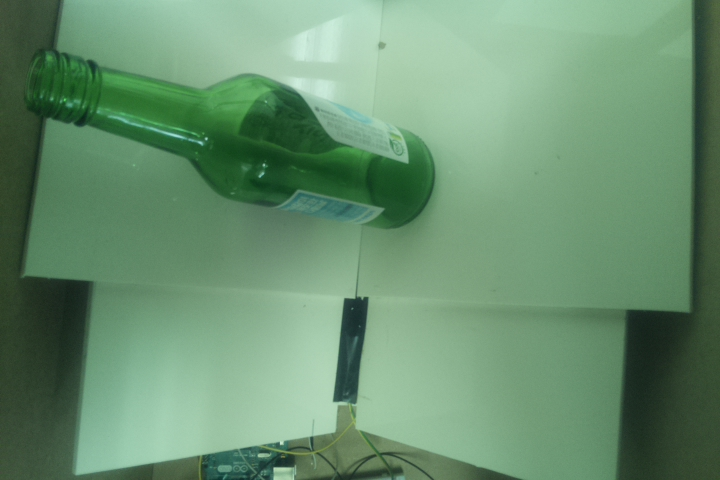soju: (25, 43, 438, 232)
